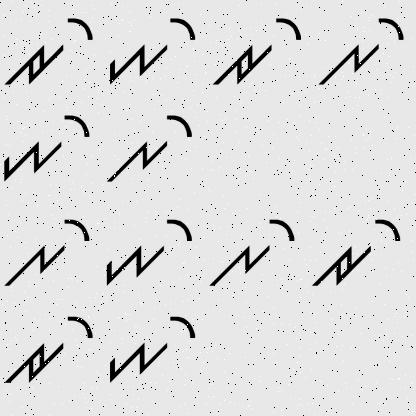lay: (206, 212, 298, 298), (105, 107, 200, 188), (3, 214, 92, 294), (318, 16, 408, 90)
ray: (312, 208, 404, 296), (5, 312, 98, 393), (3, 15, 96, 95), (207, 18, 304, 88)
yay: (102, 210, 196, 288), (100, 14, 198, 86), (107, 312, 200, 386), (2, 112, 92, 184)
